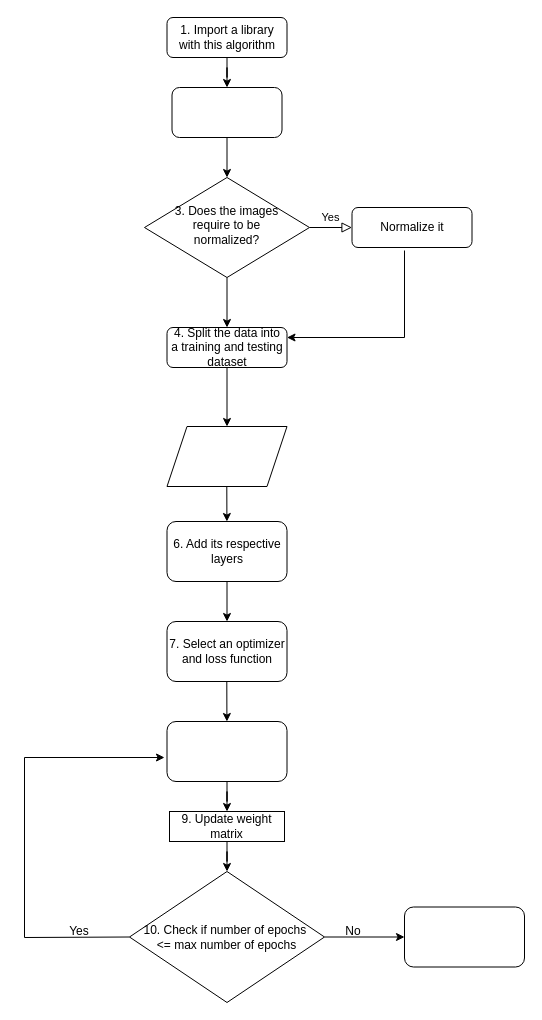
This 542x1020 diagram has some shape labels left out. The shapes that lost their labels are listed below. From the top down, each one's box as (x1, y1, x2, y2) in pixels, then its label:
(171, 86, 282, 138): 2. Keep only the variables of interest
(166, 426, 287, 486): 5. Instantiate our Model
(166, 720, 287, 782): 8. Train the CNN
(404, 906, 524, 967): 11. Start using it for predicting the ages
